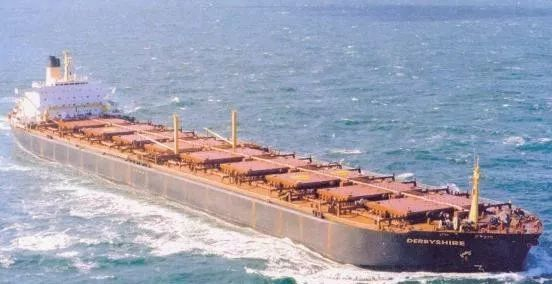Cargoship: (14, 49, 546, 269)
